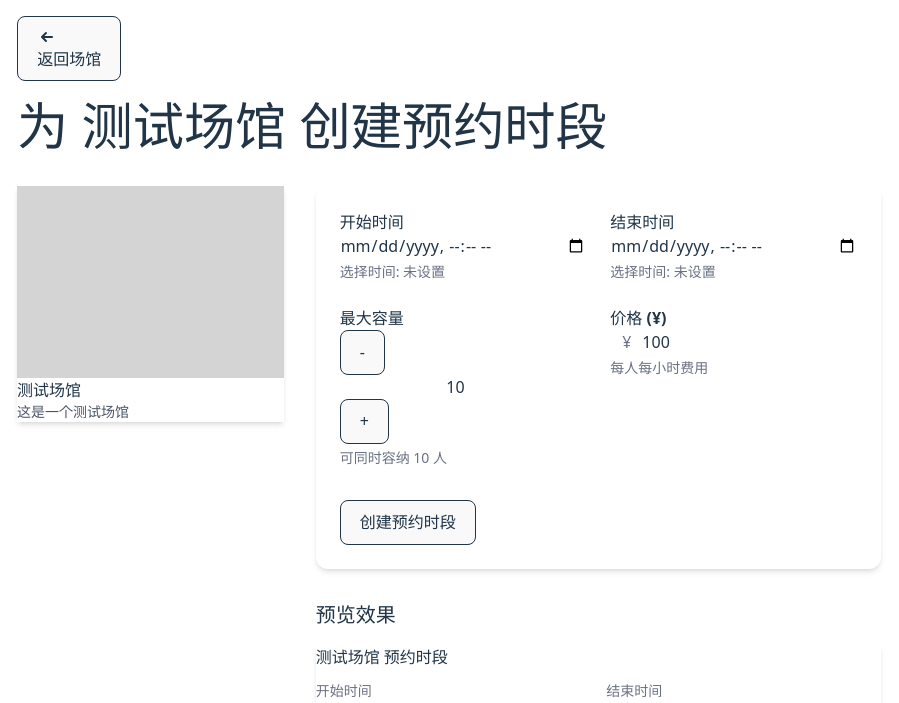
Test: ScheduleCreate › 处理表单提交错误
This screenshot has width=899, height=703.
Expected: the button "创建预约时段" is shown, [340,500,476,545]
Note:  填充并提交表单
Type "2023-10-01T10:00" into the field labelled "开始时间" at (463, 246), box [340,234,586,258]
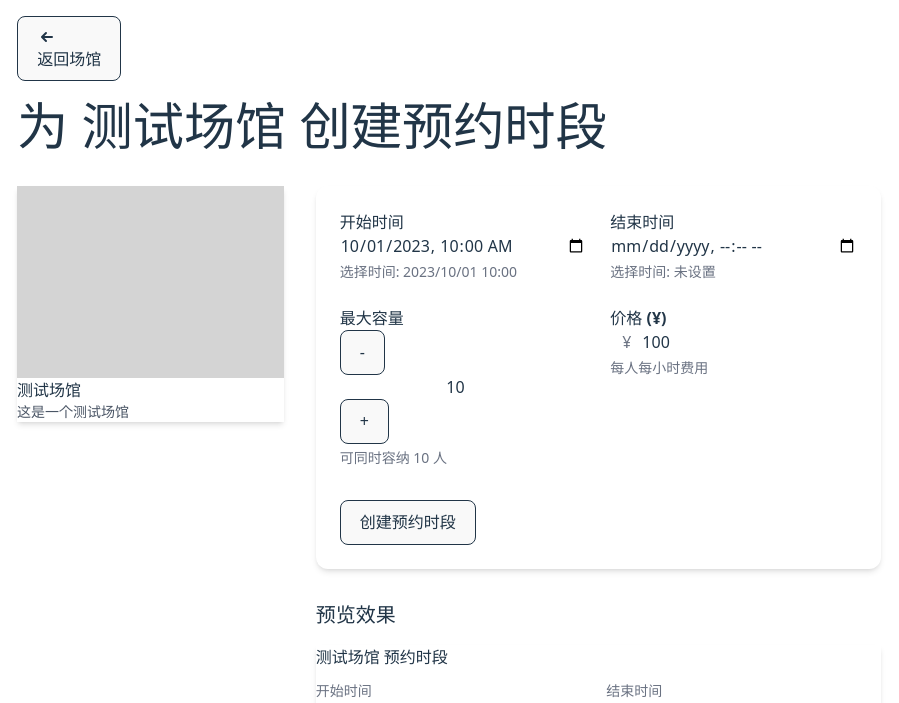
Type "2023-10-01T12:00" into the field labelled "结束时间" at (734, 246), box [610,234,857,258]
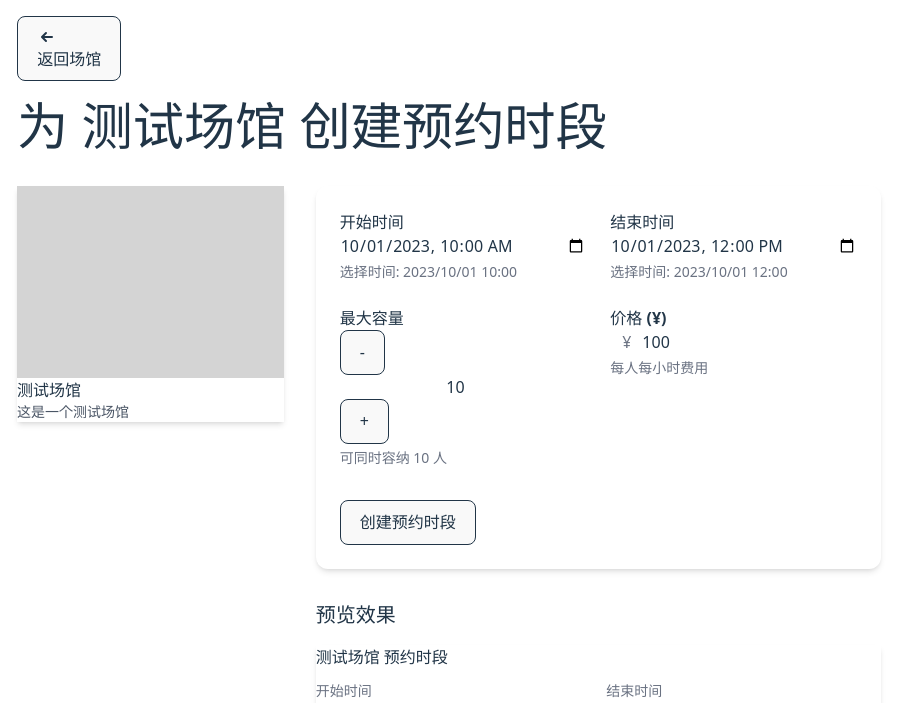
Click the button "创建预约时段" at (408, 522), box [340,500,476,545]
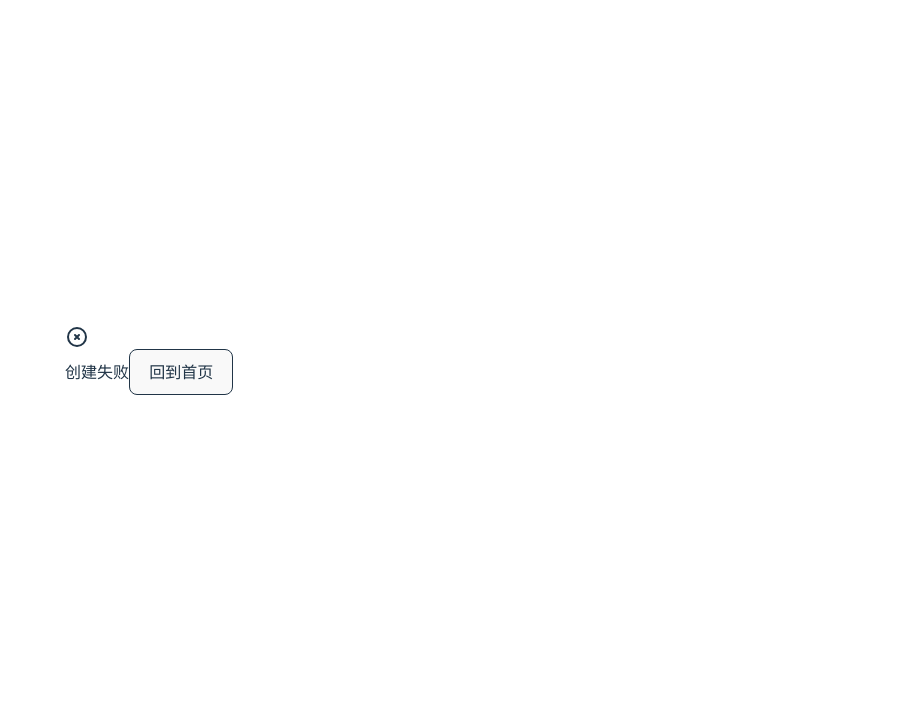
Expected: the text "创建失败" is shown, [65,361,129,383]
